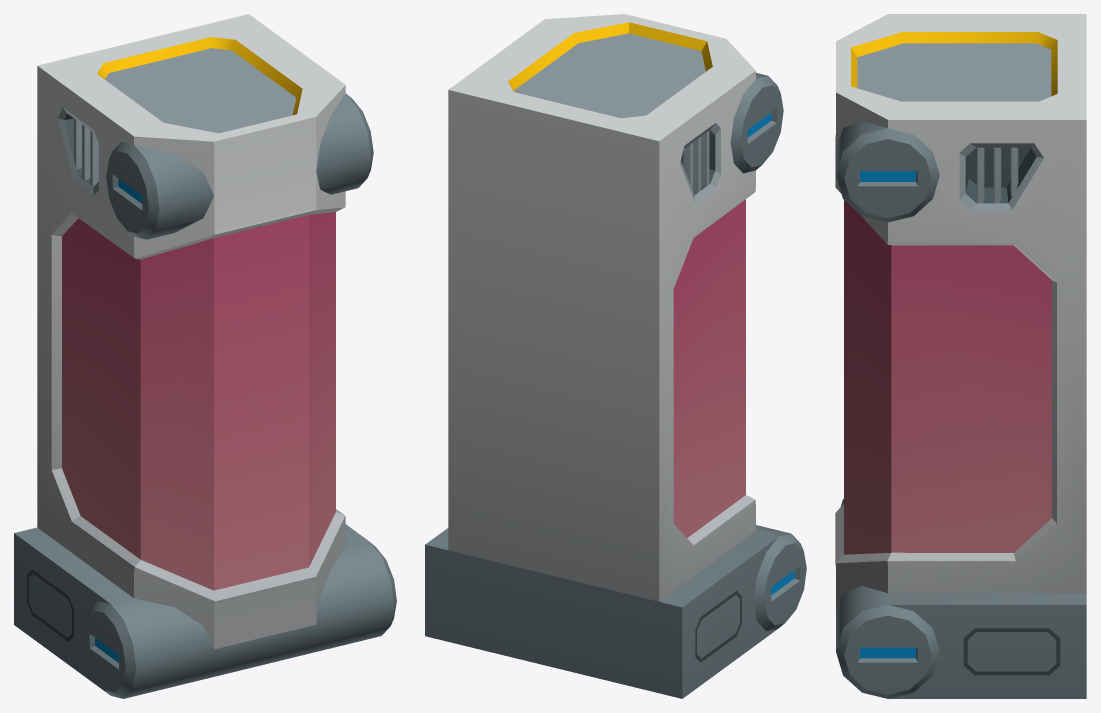
3 renders of one model, left to right at view 1: azimuth 30°, elevation 25°; view 2: azimuth 150°, elevation 25°; view 3: azimuth 270°, elevation 25°, orthographic. The views are drawn at different scales.
Visible parts, largest first — view 1: Сapsule_004; view 2: Сapsule_004; view 3: Сapsule_004.
Boxes of the visible parts, bbox=[...] form: Сapsule_004: bbox=[14, 14, 396, 698]; Сapsule_004: bbox=[425, 14, 806, 698]; Сapsule_004: bbox=[835, 14, 1086, 698].
Bounding box in the file's own units: 103 × 80.18 × 200.
